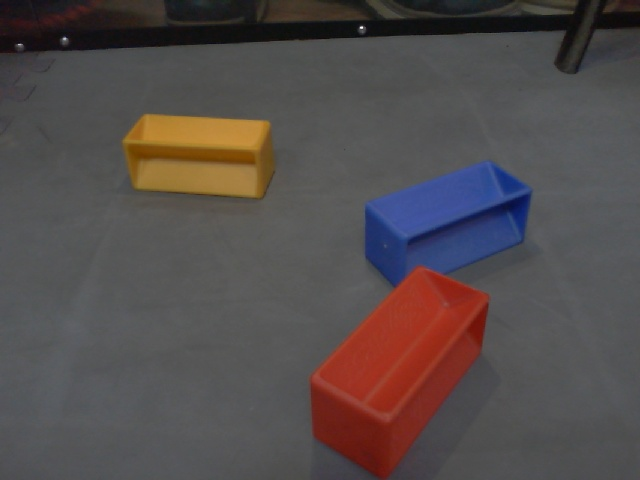BlueSample: (364, 160, 536, 289)
RedSample: (308, 263, 491, 474)
YellowSample: (122, 112, 277, 205)
